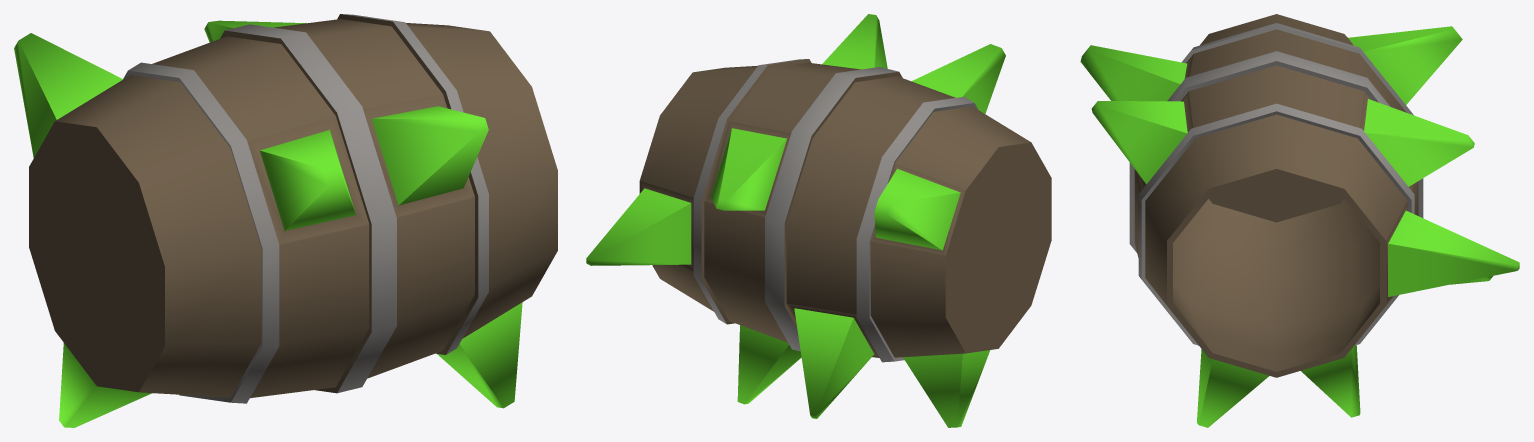
The model's file is BarrelSpikes.fbx.
3 views of the same model, side by side, from view 1: azimuth 30°, elevation 25°; view 2: azimuth 150°, elevation 25°; view 3: azimuth 270°, elevation 25° (orthographic). The views are drawn at different scales.
Parts seen in each view (by area): view 1: pCylinder2; view 2: pCylinder2; view 3: pCylinder2.
Part boxes in pixels (box(x1,y1,x2,y2)): pCylinder2: box(14, 14, 557, 427); pCylinder2: box(586, 14, 1051, 427); pCylinder2: box(1080, 14, 1519, 427).
Size of the model in its own units: 4.18 by 4.13 by 5.01.
